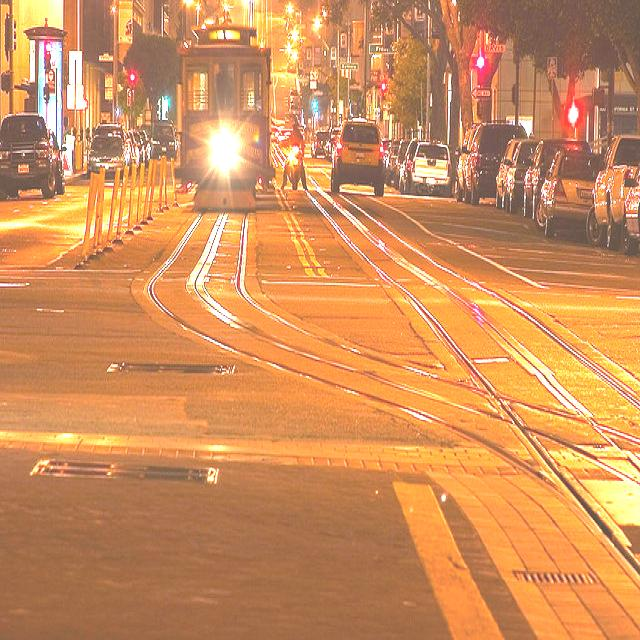Motorbike: (280, 99, 324, 221)
